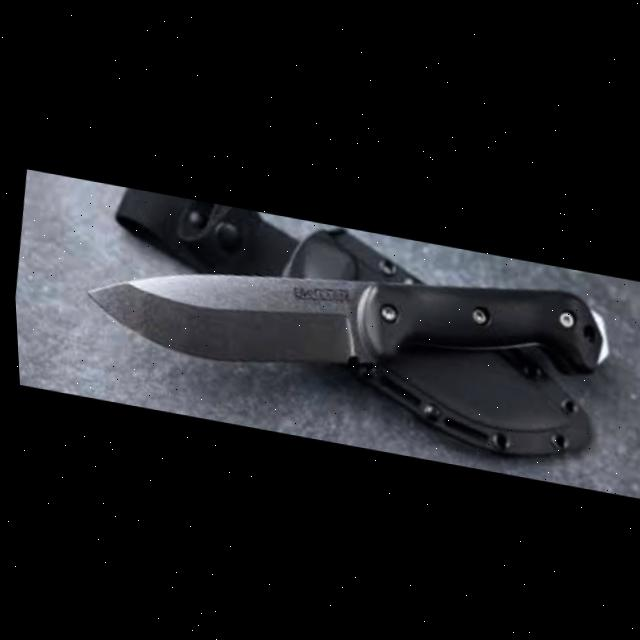Knife: (67, 180, 619, 466)
